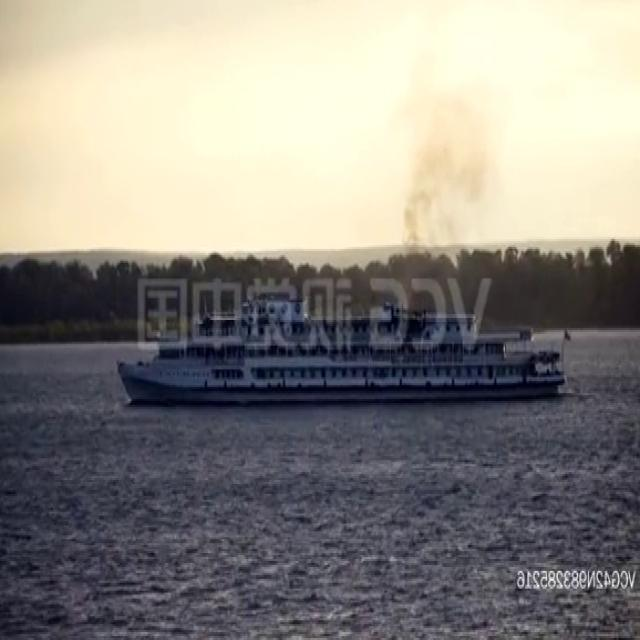passenger ship: (114, 285, 570, 414)
